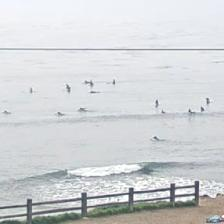surfer: (150, 136, 164, 140), (55, 112, 66, 117), (77, 107, 87, 112), (65, 84, 71, 91), (2, 110, 12, 114), (205, 97, 210, 104), (187, 109, 194, 114), (155, 100, 159, 108), (82, 79, 90, 83), (90, 81, 94, 88), (89, 91, 98, 94), (112, 78, 116, 84), (29, 87, 33, 93), (200, 106, 204, 111), (161, 110, 165, 114)
